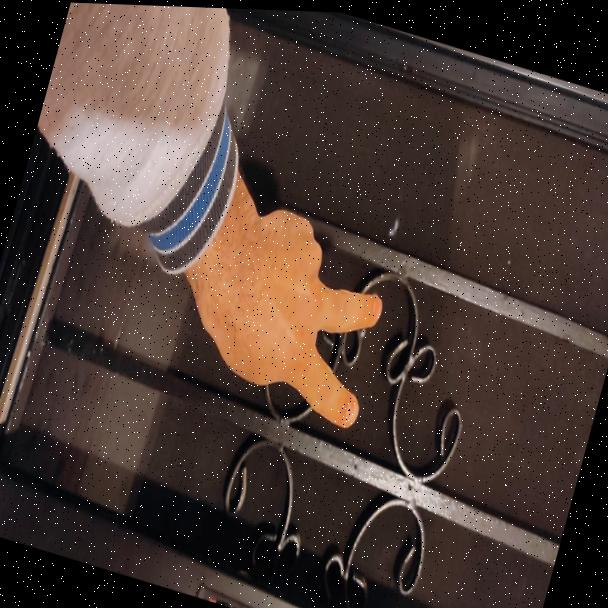two: (186, 177, 409, 445)
